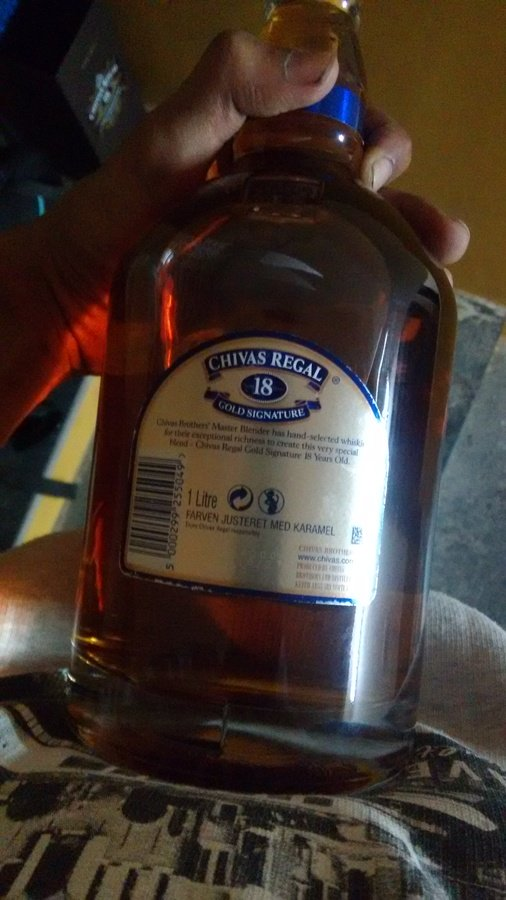Chivas Regal: (58, 4, 463, 802)
